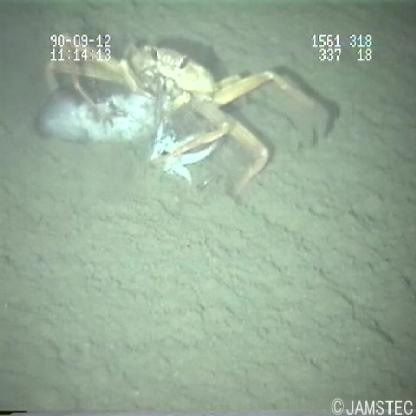Bio: (30, 31, 334, 194)
